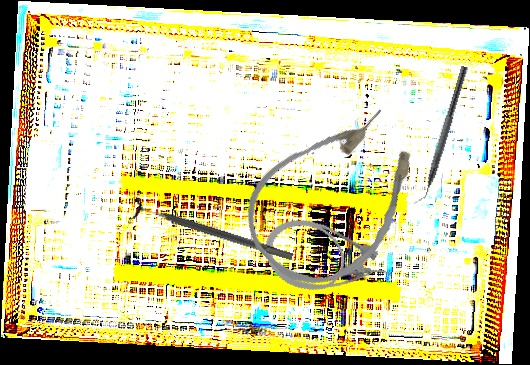Cannula: (223, 83, 450, 311), (255, 207, 400, 317)
Chopper: (411, 62, 469, 209)
Fixation Ring: (128, 195, 297, 270)
